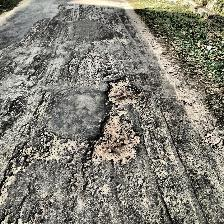pothole: (88, 113, 140, 164), (18, 132, 70, 162), (104, 76, 140, 104)
